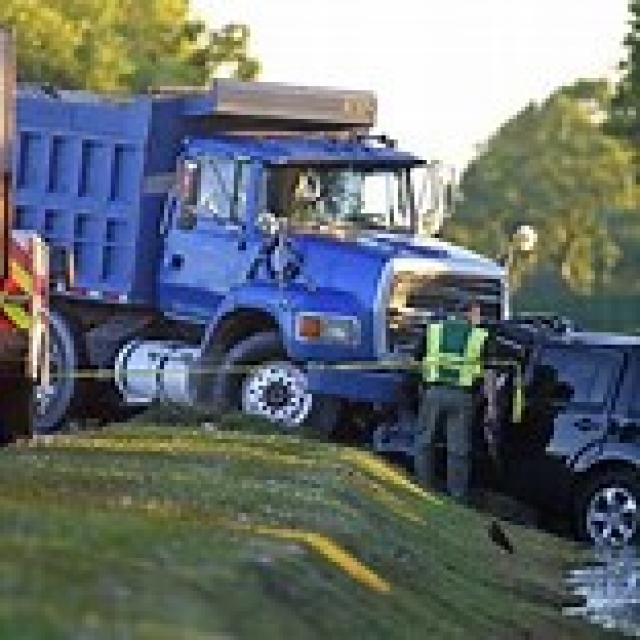Accident: (112, 75, 640, 504)
